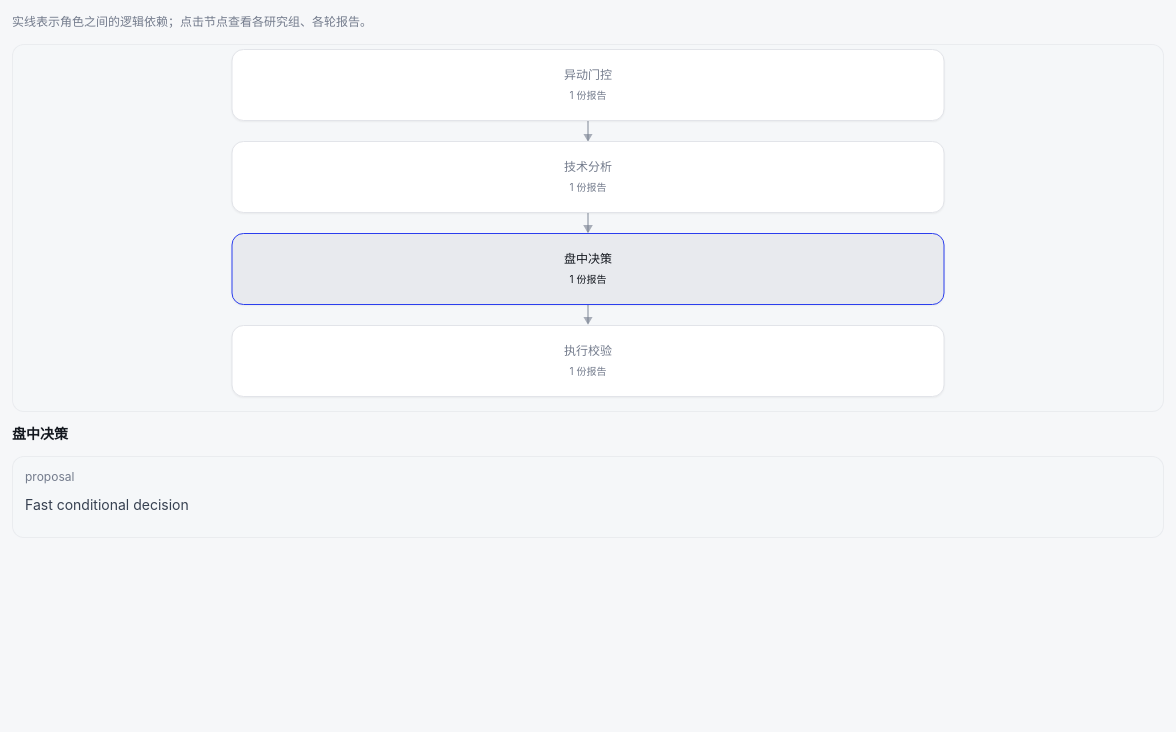
Test case: validated research graph configuration › labels deterministic nodes separately and selects the fast decision report by default
The width and height of the screenshot is (1176, 732).
Expected: the text "Fast conditional decision" is shown, [25,496,189,513]
Click the button "执行校验 1 份报告". click: (588, 361)
box: [232,325,944,397]
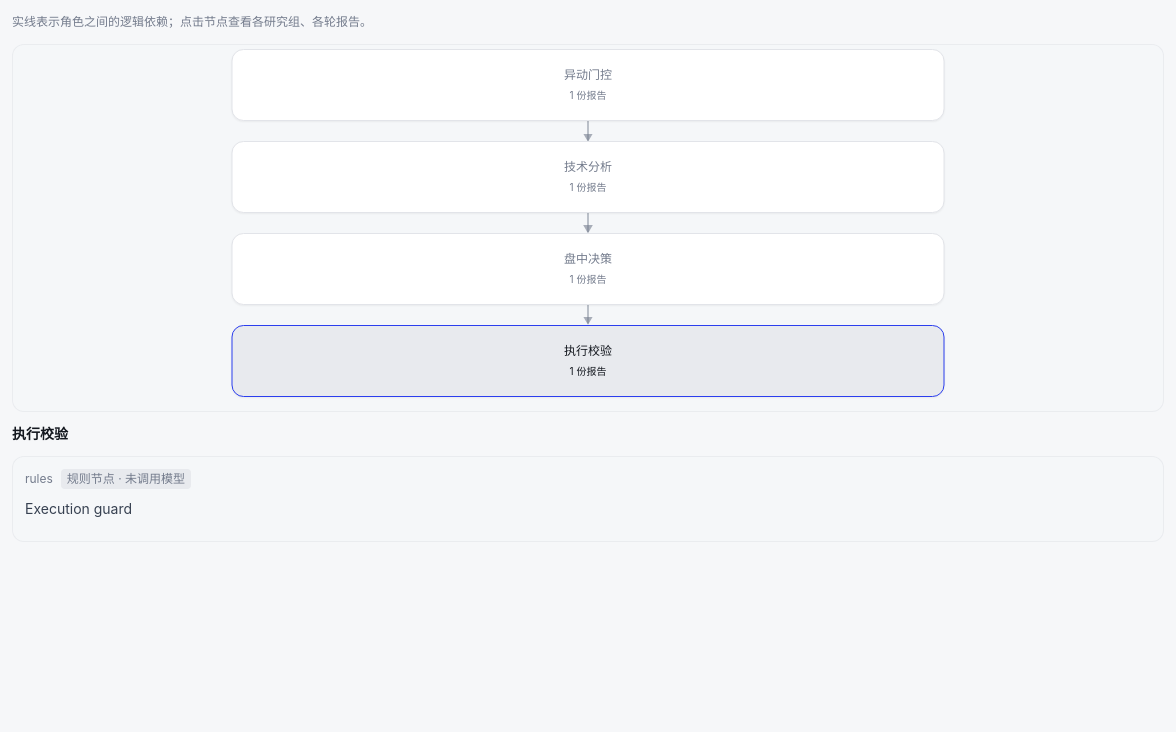
Expected: the text "规则节点 · 未调用模型" is shown, [61,469,191,489]
Expected: the text "Execution guard" is shown, [25,500,132,517]
